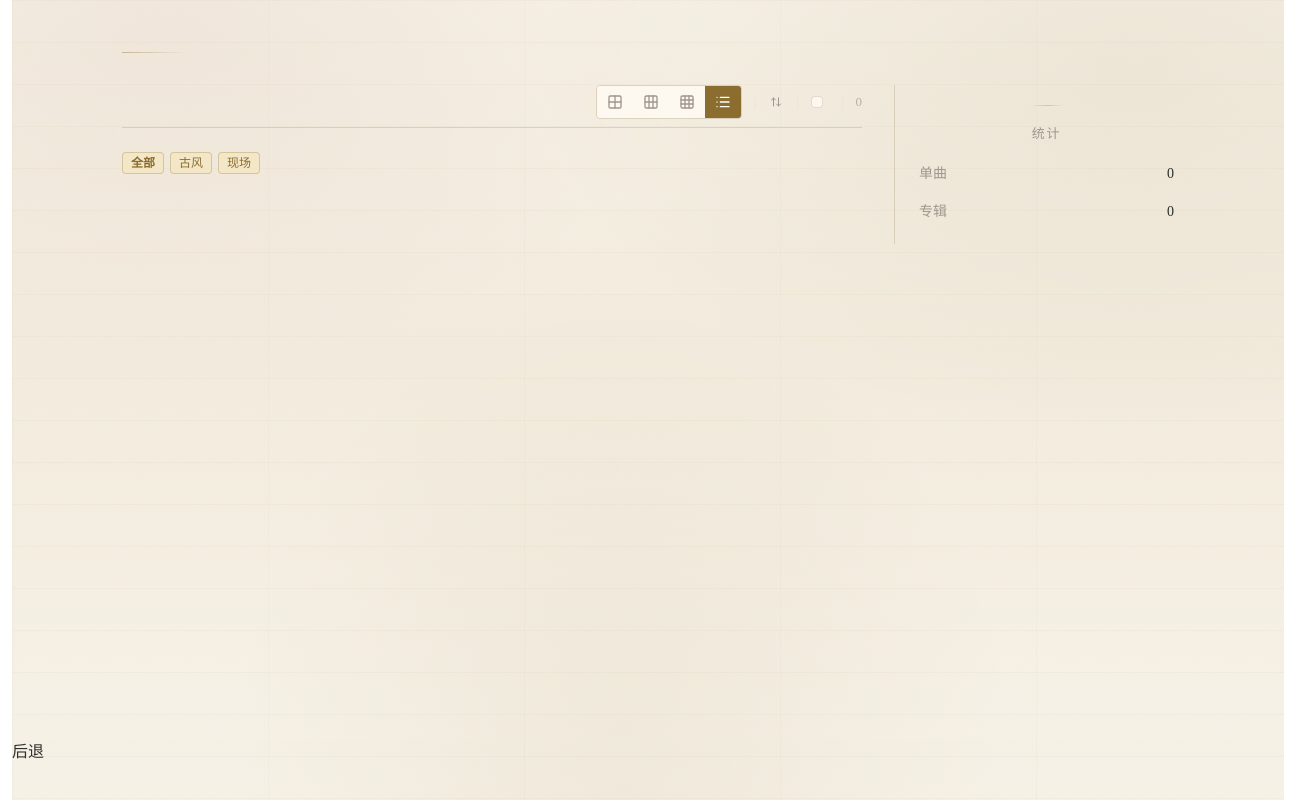
Test: 音乐列表页标签按钮 › 点击标签后 URL 保留 tag 参数并携带 tag 重新请求列表
The width and height of the screenshot is (1292, 800).
What coordinates should you click on to do the following:
click the button "古风"
I would click on:
 (191, 163)
Its box is [170, 152, 212, 174].
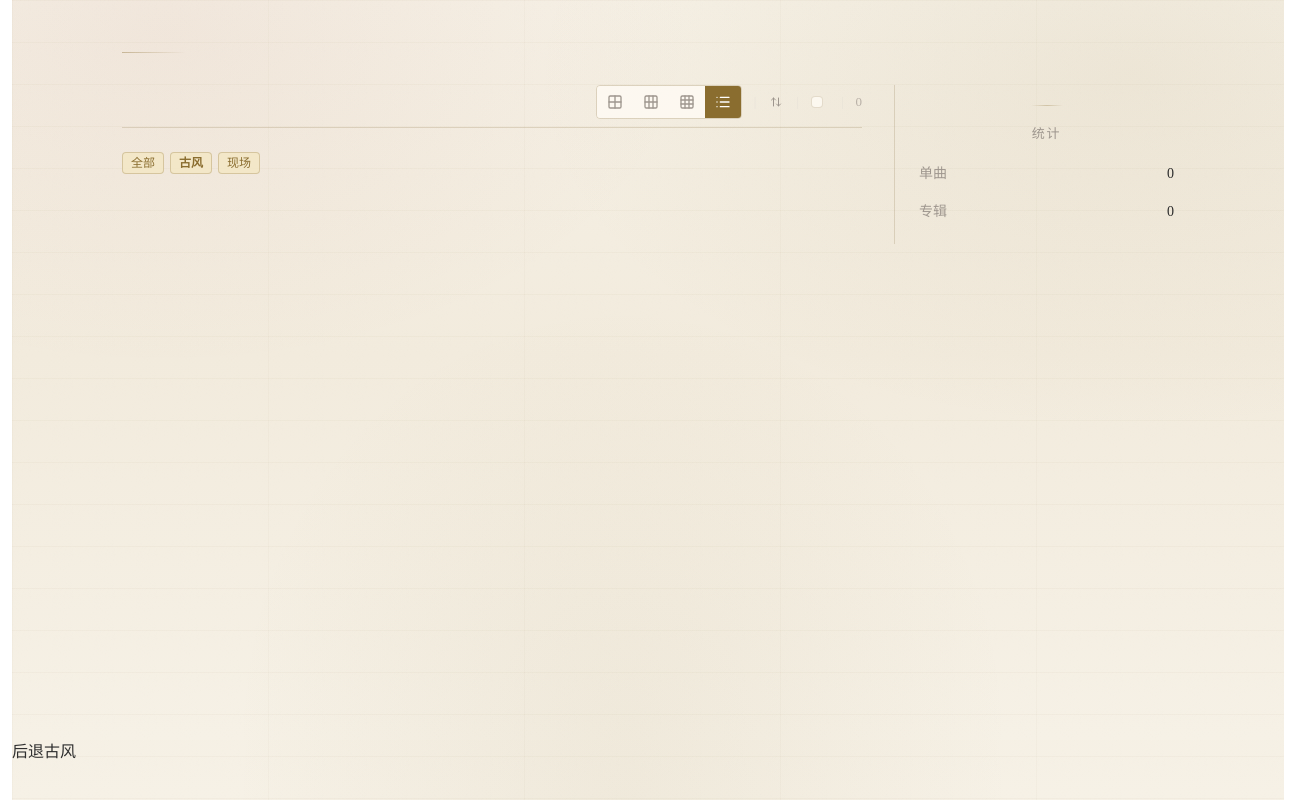
Now the text with test id "url" reads "古风", box [44, 743, 76, 760]
